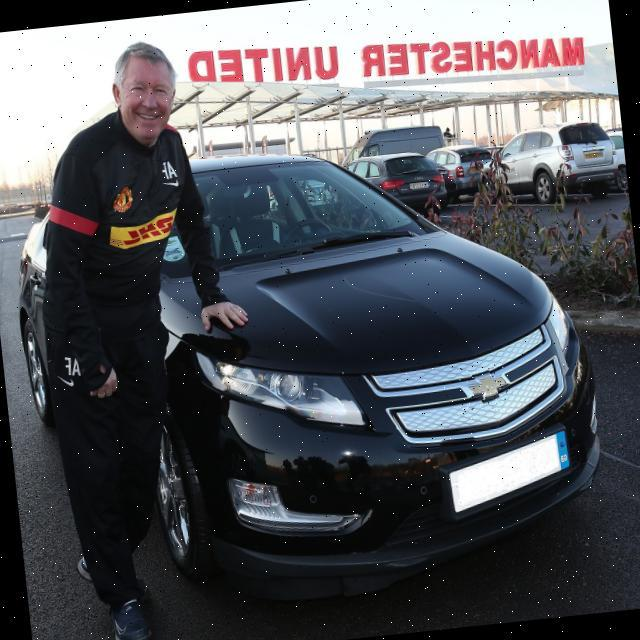Chevrolet: (458, 363, 512, 414)
